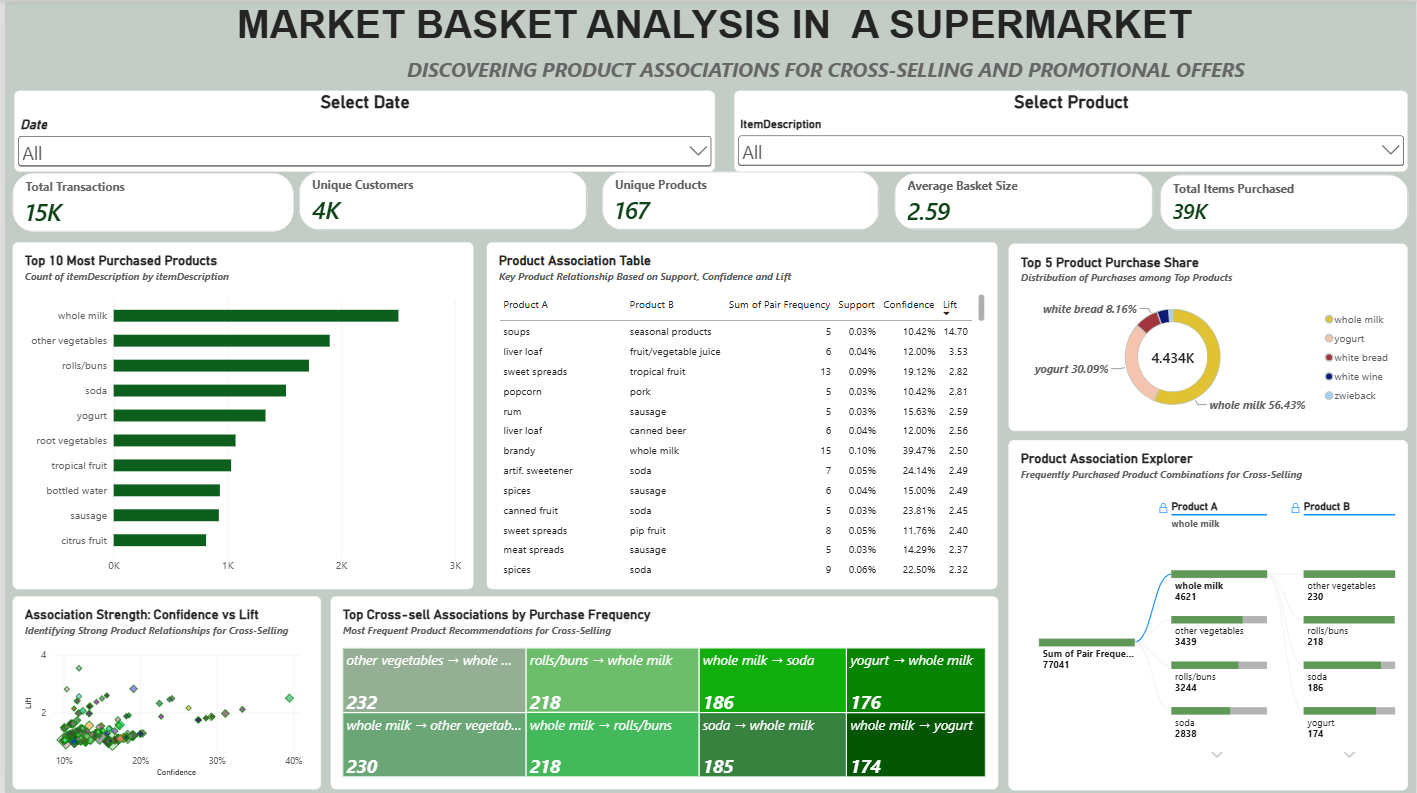

The page's visual inventory and layout, read from the dashboard file:
{"tool":"powerbi","page":{"name":"Page 1","canvas":[1920,1080],"ordinal":0},"visuals":[{"type":"cardVisual","fields":{"Data":["Transactions.Total Transactions"]},"box":[9.8,231.7,382.5,80],"z":0},{"type":"cardVisual","fields":{"Data":["Transactions.Unique Customers"]},"box":[400,230,392.5,80],"z":1000},{"type":"cardVisual","fields":{"Data":["Groceries.Unique Products"]},"box":[812.5,230,377.5,80],"z":2000},{"type":"cardVisual","fields":{"Data":["Groceries.Total Items Purchased"]},"box":[1570.7,234.1,338.3,76.7],"z":3000},{"type":"cardVisual","fields":{"Data":["Transactions.Average Basket Size"]},"box":[1210,232.5,352.5,77.5],"z":4000},{"type":"clusteredBarChart","title":"Top 10 Most Purchased Products","fields":{"Category":["Groceries.itemDescription"],"Y":["CountNonNull(Groceries.itemDescription)"]},"box":[10,327.5,627.5,472.5],"z":5000},{"type":"slicer","title":"Select Product","fields":{"Values":["Groceries.itemDescription"]},"box":[992.7,119.5,916.7,110.4],"z":6000},{"type":"tableEx","title":"Product Association Table","fields":{"Values":["Association Rules.Product A","Association Rules.Product B","Sum(Association Rules.Pair Frequency)","Association Rules.Support","Association Rules.Confidence","Association Rules.Lift"]},"box":[655,327.5,695,472.5],"z":7000},{"type":"slicer","title":"Select Date","fields":{"Values":["Transactions.Date"]},"box":[12.2,119.5,954.2,110.4],"z":10000},{"type":"textbox","box":[1250,1060,670,20],"z":12000},{"type":"textbox","box":[10,0,1910,74],"z":13000},{"type":"textbox","box":[546.3,73.2,1239,56.1],"z":14000},{"type":"donutChart","title":"Top 5 Product Purchase Share","fields":{"Category":["Groceries.itemDescription"],"Y":["CountNonNull(Groceries.itemDescription)"]},"box":[1365,328.3,543.3,255],"z":14001},{"type":"scatterChart","title":"Association Strength: Confidence vs Lift","fields":{"X":["Association Rules.Confidence"],"Y":["Association Rules.Lift"],"Size":["Sum(Association Rules.Pair Frequency)"],"Series":["Association Rules.Cross-Sell Recommendation"]},"box":[10,808.3,420,263.3],"z":14002},{"type":"treemap","title":"Top Cross-sell Associations by Purchase Frequency","fields":{"Values":["Sum(Association Rules.Pair Frequency)"],"Group":["Association Rules.Short Association"]},"box":[442.2,808.9,908.3,263.3],"z":14003},{"type":"decompositionTreeVisual","title":"Product Association Explorer","fields":{"Analyze":["Sum(Association Rules.Pair Frequency)"],"ExplainBy":["Association Rules.Product A","Association Rules.Product B"]},"box":[1365,595,543.3,476.7],"z":14004}]}

Visuals, with their boxes in screenshot pixels (x1, y1, x2, y2), scaled from the page's 1920x1080 canvas onto the 1417x793 screenshot:
cardVisual - Transactions.Total Transactions: region(7, 170, 290, 229)
cardVisual - Transactions.Unique Customers: region(295, 169, 585, 228)
cardVisual - Groceries.Unique Products: region(600, 169, 878, 228)
cardVisual - Groceries.Total Items Purchased: region(1159, 172, 1409, 228)
cardVisual - Transactions.Average Basket Size: region(893, 171, 1153, 228)
"Top 10 Most Purchased Products" clusteredBarChart: region(7, 240, 470, 587)
"Select Product" slicer: region(733, 88, 1409, 169)
"Product Association Table" tableEx: region(483, 240, 996, 587)
"Select Date" slicer: region(9, 88, 713, 169)
textbox: region(923, 778, 1416, 792)
textbox: region(7, 0, 1416, 54)
textbox: region(403, 54, 1318, 95)
"Top 5 Product Purchase Share" donutChart: region(1007, 241, 1408, 428)
"Association Strength: Confidence vs Lift" scatterChart: region(7, 594, 317, 787)
"Top Cross-sell Associations by Purchase Frequency" treemap: region(326, 594, 997, 787)
"Product Association Explorer" decompositionTreeVisual: region(1007, 437, 1408, 787)
